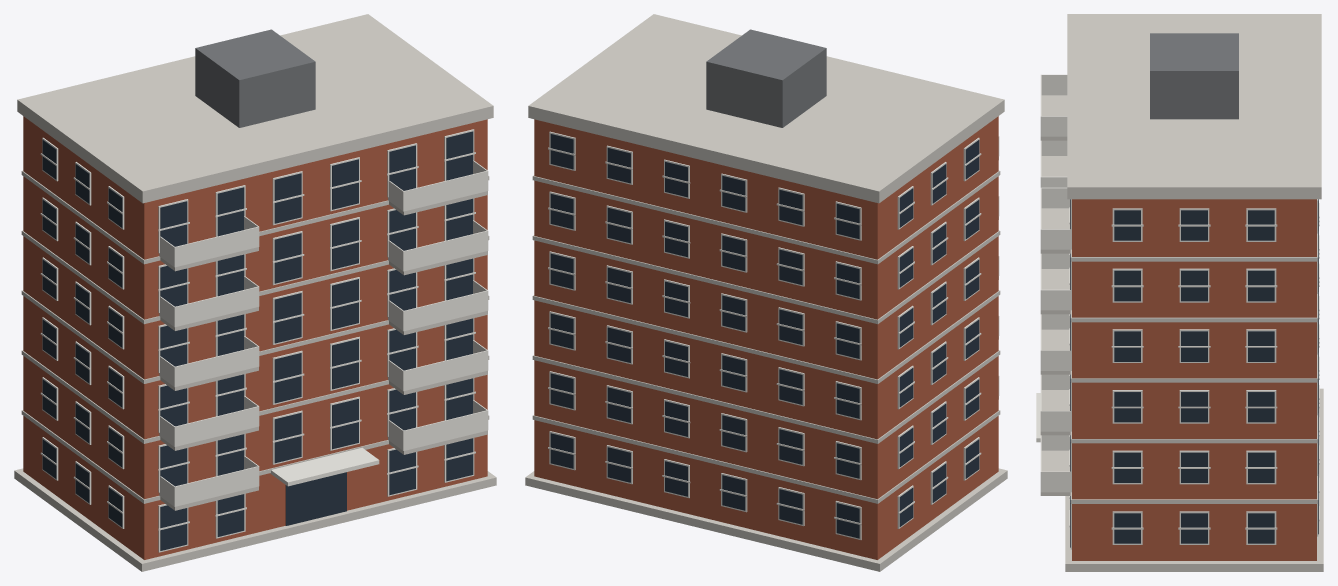
Rendered from apartment-block.glb.
3 views of the same model, side by side, from view 1: azimuth 30°, elevation 25°; view 2: azimuth 150°, elevation 25°; view 3: azimuth 270°, elevation 25° (orthographic).
Parts seen in each view (by area): view 1: Apartment_Block; view 2: Apartment_Block; view 3: Apartment_Block.
Boxes of the visible parts, <box> form: Apartment_Block: <box>14,14,496,571</box>; Apartment_Block: <box>525,14,1007,571</box>; Apartment_Block: <box>1036,14,1323,571</box>.
Bounding box in the file's own units: 18.6 × 21.4 × 12.9.
